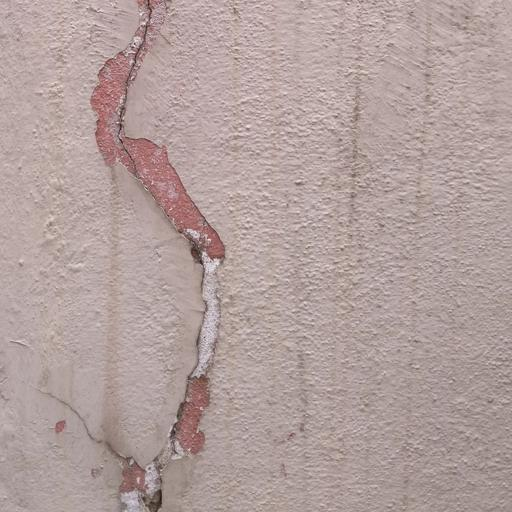major_crack: (91, 0, 226, 512)
